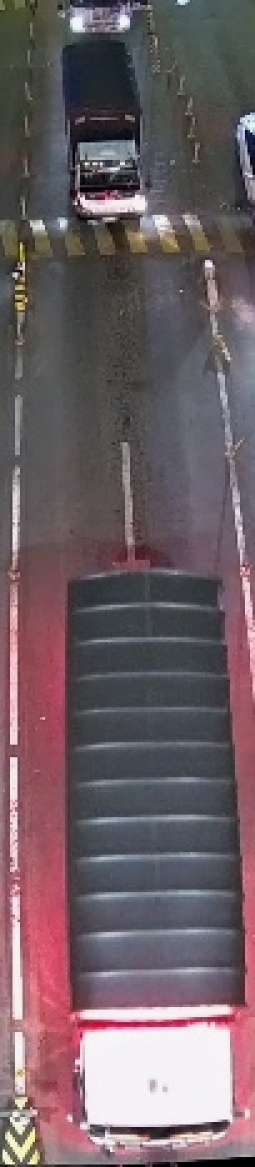truck: (64, 573, 250, 1158), (52, 39, 152, 217)
